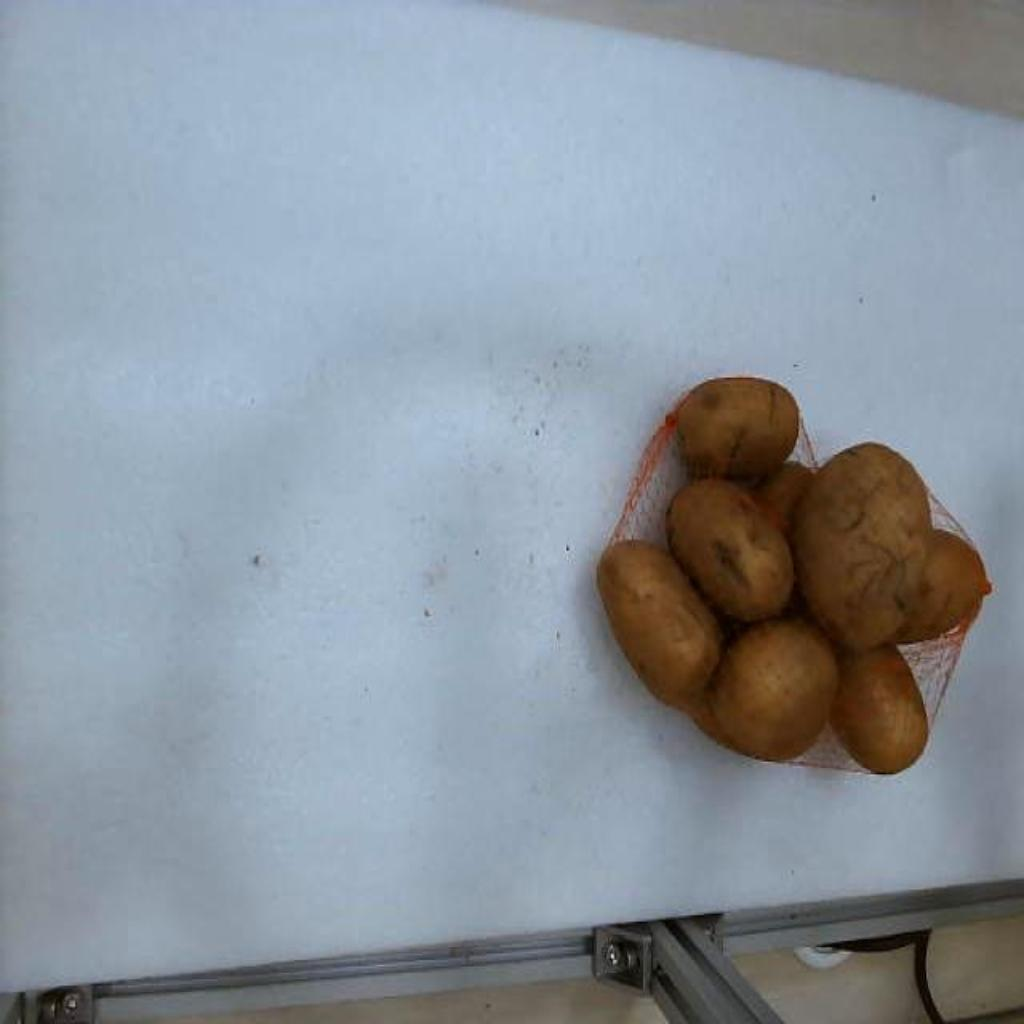potato: (794, 443, 932, 649), (598, 547, 722, 708), (666, 477, 794, 620), (712, 621, 838, 759), (830, 645, 928, 772), (678, 379, 800, 476), (894, 531, 992, 641)
